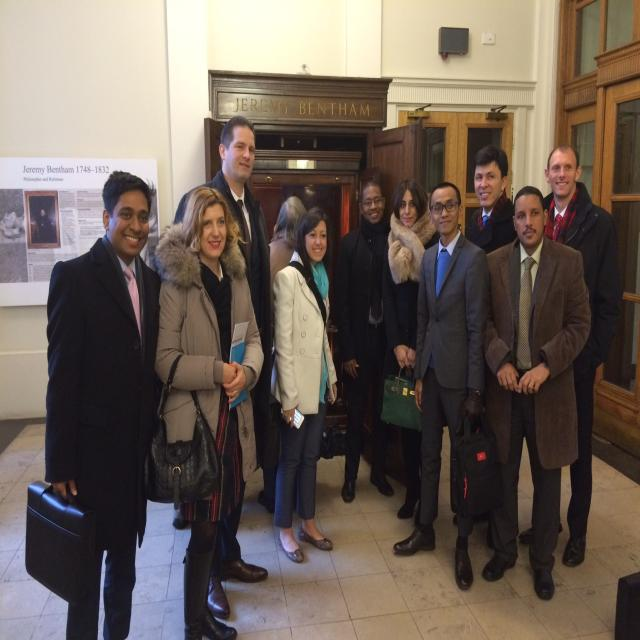body: (23, 166, 166, 640), (149, 185, 266, 640), (474, 182, 595, 604), (172, 115, 272, 619), (516, 142, 622, 568), (392, 179, 492, 592), (268, 204, 340, 567), (379, 178, 442, 528), (333, 180, 396, 503), (256, 195, 308, 517), (464, 141, 519, 254)
